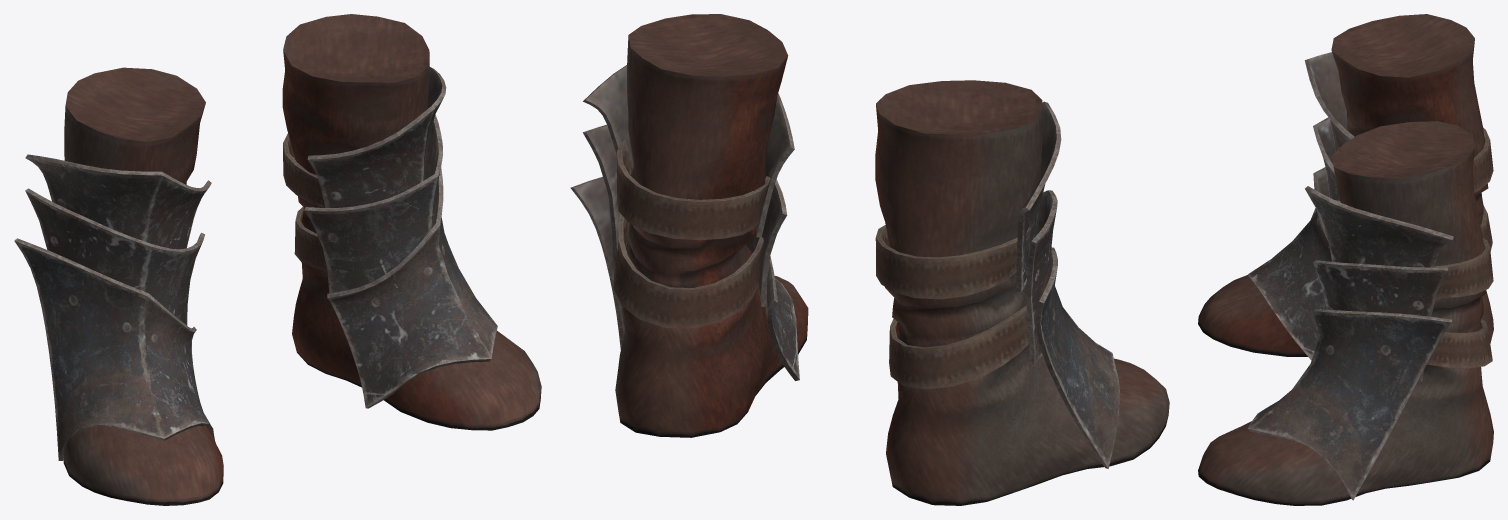
The model's file is sk_dg_uruk_boots_heavy_a.fbx.
3 renders of one model, left to right at view 1: azimuth 30°, elevation 25°; view 2: azimuth 150°, elevation 25°; view 3: azimuth 270°, elevation 25°, orthographic. The views are drawn at different scales.
Visible parts, largest first — view 1: sk_dg_uruk_boots_heavy_a.0, sk_dg_uruk_boots_heavy_a.1; view 2: sk_dg_uruk_boots_heavy_a.0, sk_dg_uruk_boots_heavy_a.1; view 3: sk_dg_uruk_boots_heavy_a.0, sk_dg_uruk_boots_heavy_a.1.
Part boxes in pixels (left/top/right/bottom): sk_dg_uruk_boots_heavy_a.0: left=14, top=14, right=541, bottom=505; sk_dg_uruk_boots_heavy_a.1: left=283, top=133, right=327, bottom=271; sk_dg_uruk_boots_heavy_a.0: left=570, top=14, right=1169, bottom=505; sk_dg_uruk_boots_heavy_a.1: left=613, top=140, right=1028, bottom=389; sk_dg_uruk_boots_heavy_a.0: left=1198, top=14, right=1493, bottom=505; sk_dg_uruk_boots_heavy_a.1: left=1427, top=127, right=1493, bottom=368.
Size of the model in its own units: 0.5637 by 0.3359 by 0.3934.
2 materials, 2 textured.
